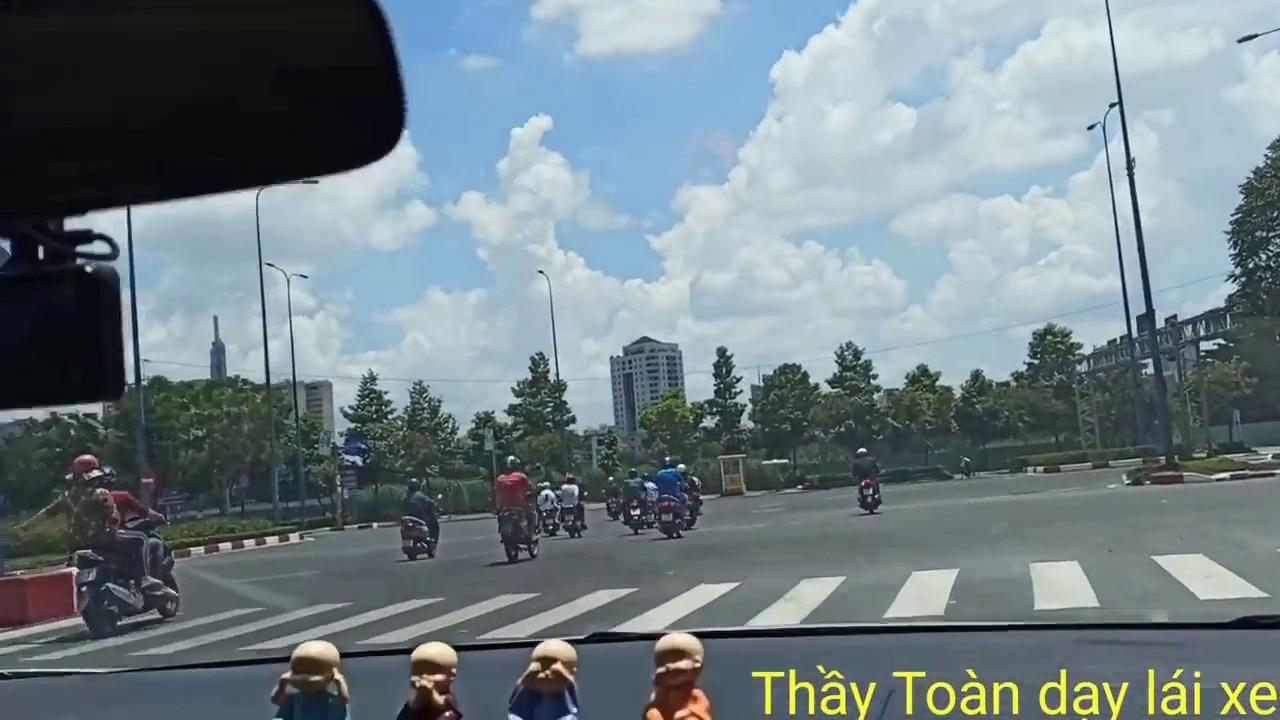Cấm đi ngược chiều: (137, 466, 160, 492)
